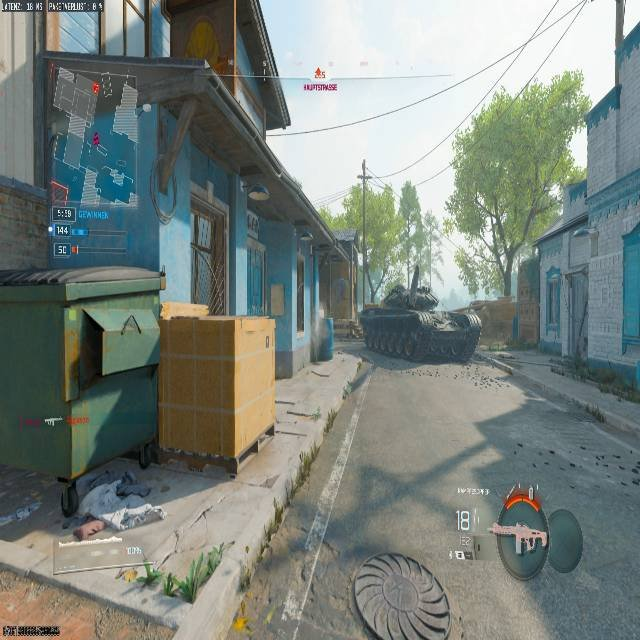player: (63, 470, 166, 540)
